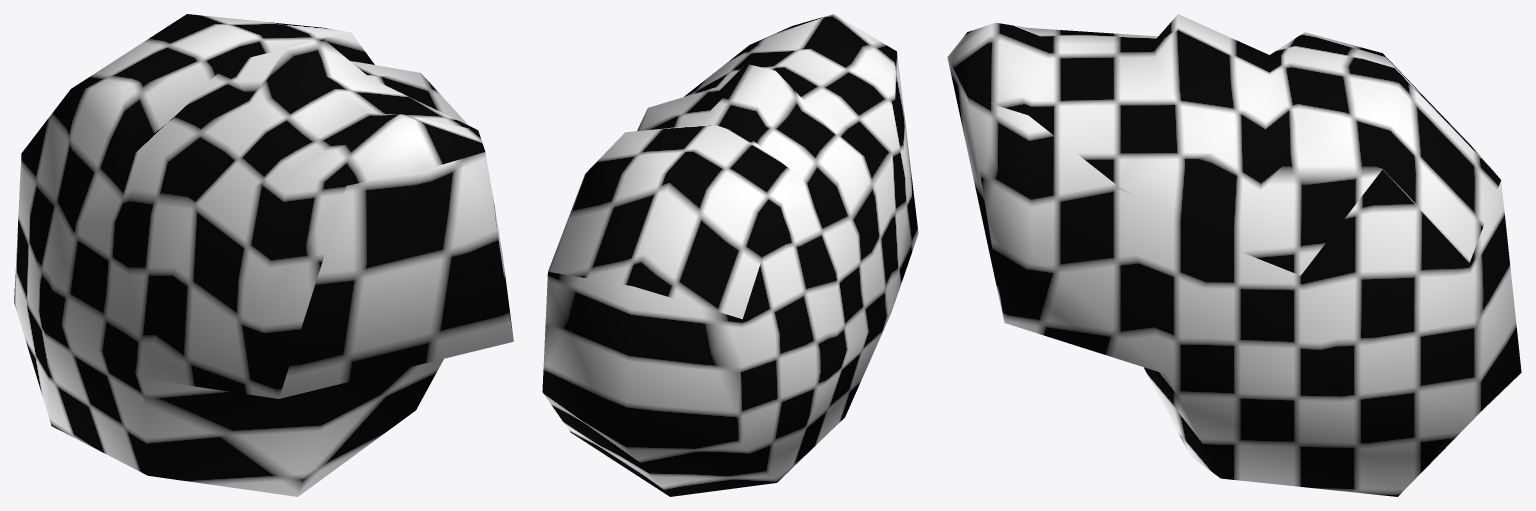
File: infaunhuma26.dae
3 views of the same model, side by side, from view 1: azimuth 30°, elevation 25°; view 2: azimuth 150°, elevation 25°; view 3: azimuth 270°, elevation 25° (orthographic). The views are drawn at different scales.
Parts seen in each view (by area): view 1: face; view 2: face; view 3: face.
Part boxes in pixels (x1,y1,x2,y2): face: (14, 14, 513, 496); face: (542, 14, 918, 496); face: (947, 14, 1521, 496).
Bounding box in the file's own units: 1.04 × 1.51 × 1.32.
1 material, 1 textured.
